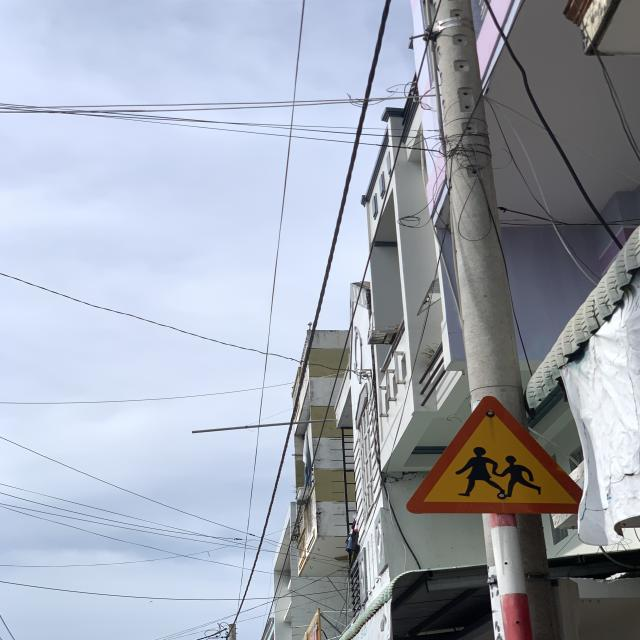Vong_Xuyen: (406, 395, 582, 513)
